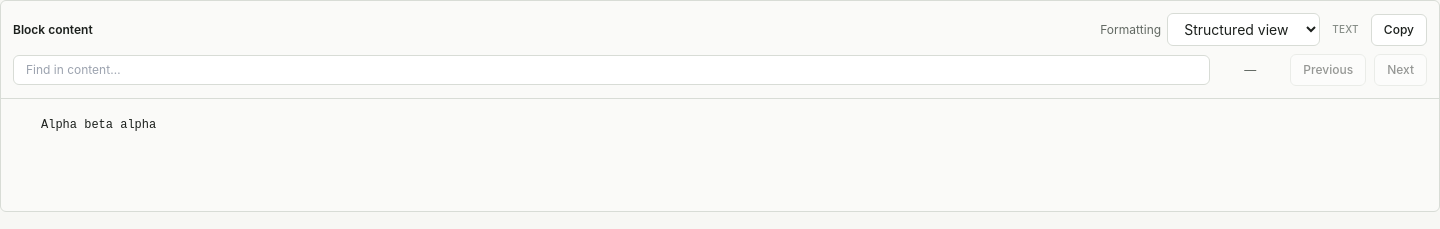
Test: SearchableContentViewer › finds every case-insensitive occurrence and cycles through them
Type "alpha" into the search field named "Search block content" at (612, 70), box [13,55,1210,85]
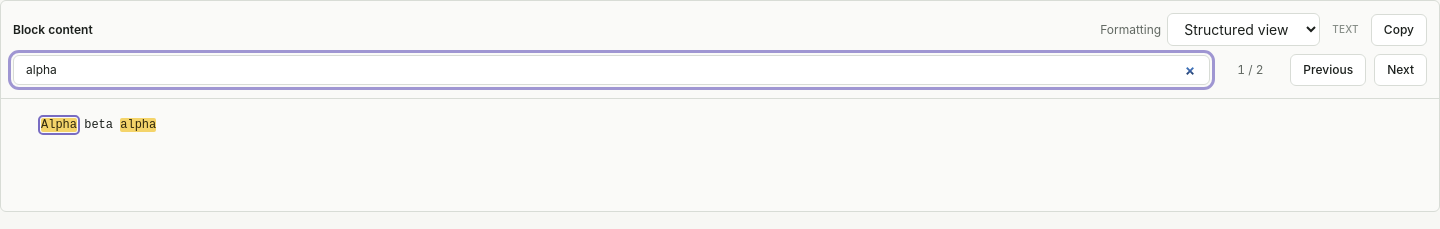
expect the text "1 / 2" is shown: met, box [1237,62,1264,77]
Click the button with aria-label "Next occurrence" at (1401, 70), box [1374,54,1427,86]
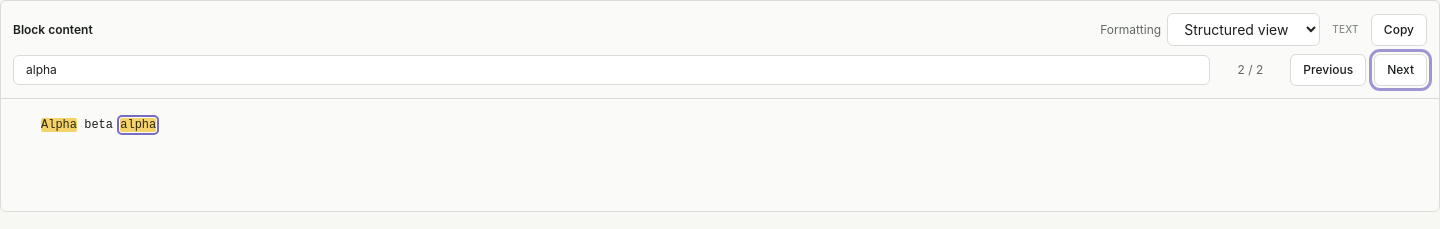
expect the text "2 / 2" is shown: met, box [1237,62,1264,77]
Click the button with aria-label "Previous occurrence" at (1328, 70), box [1290,54,1366,86]
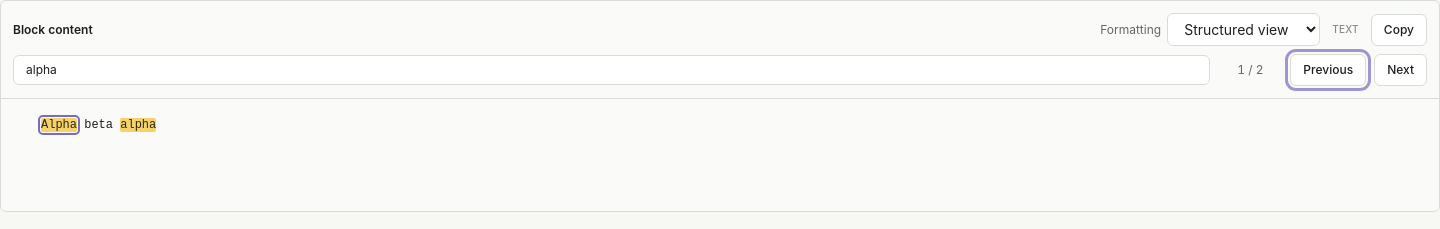
expect the text "1 / 2" is shown: met, box [1237,62,1264,77]
